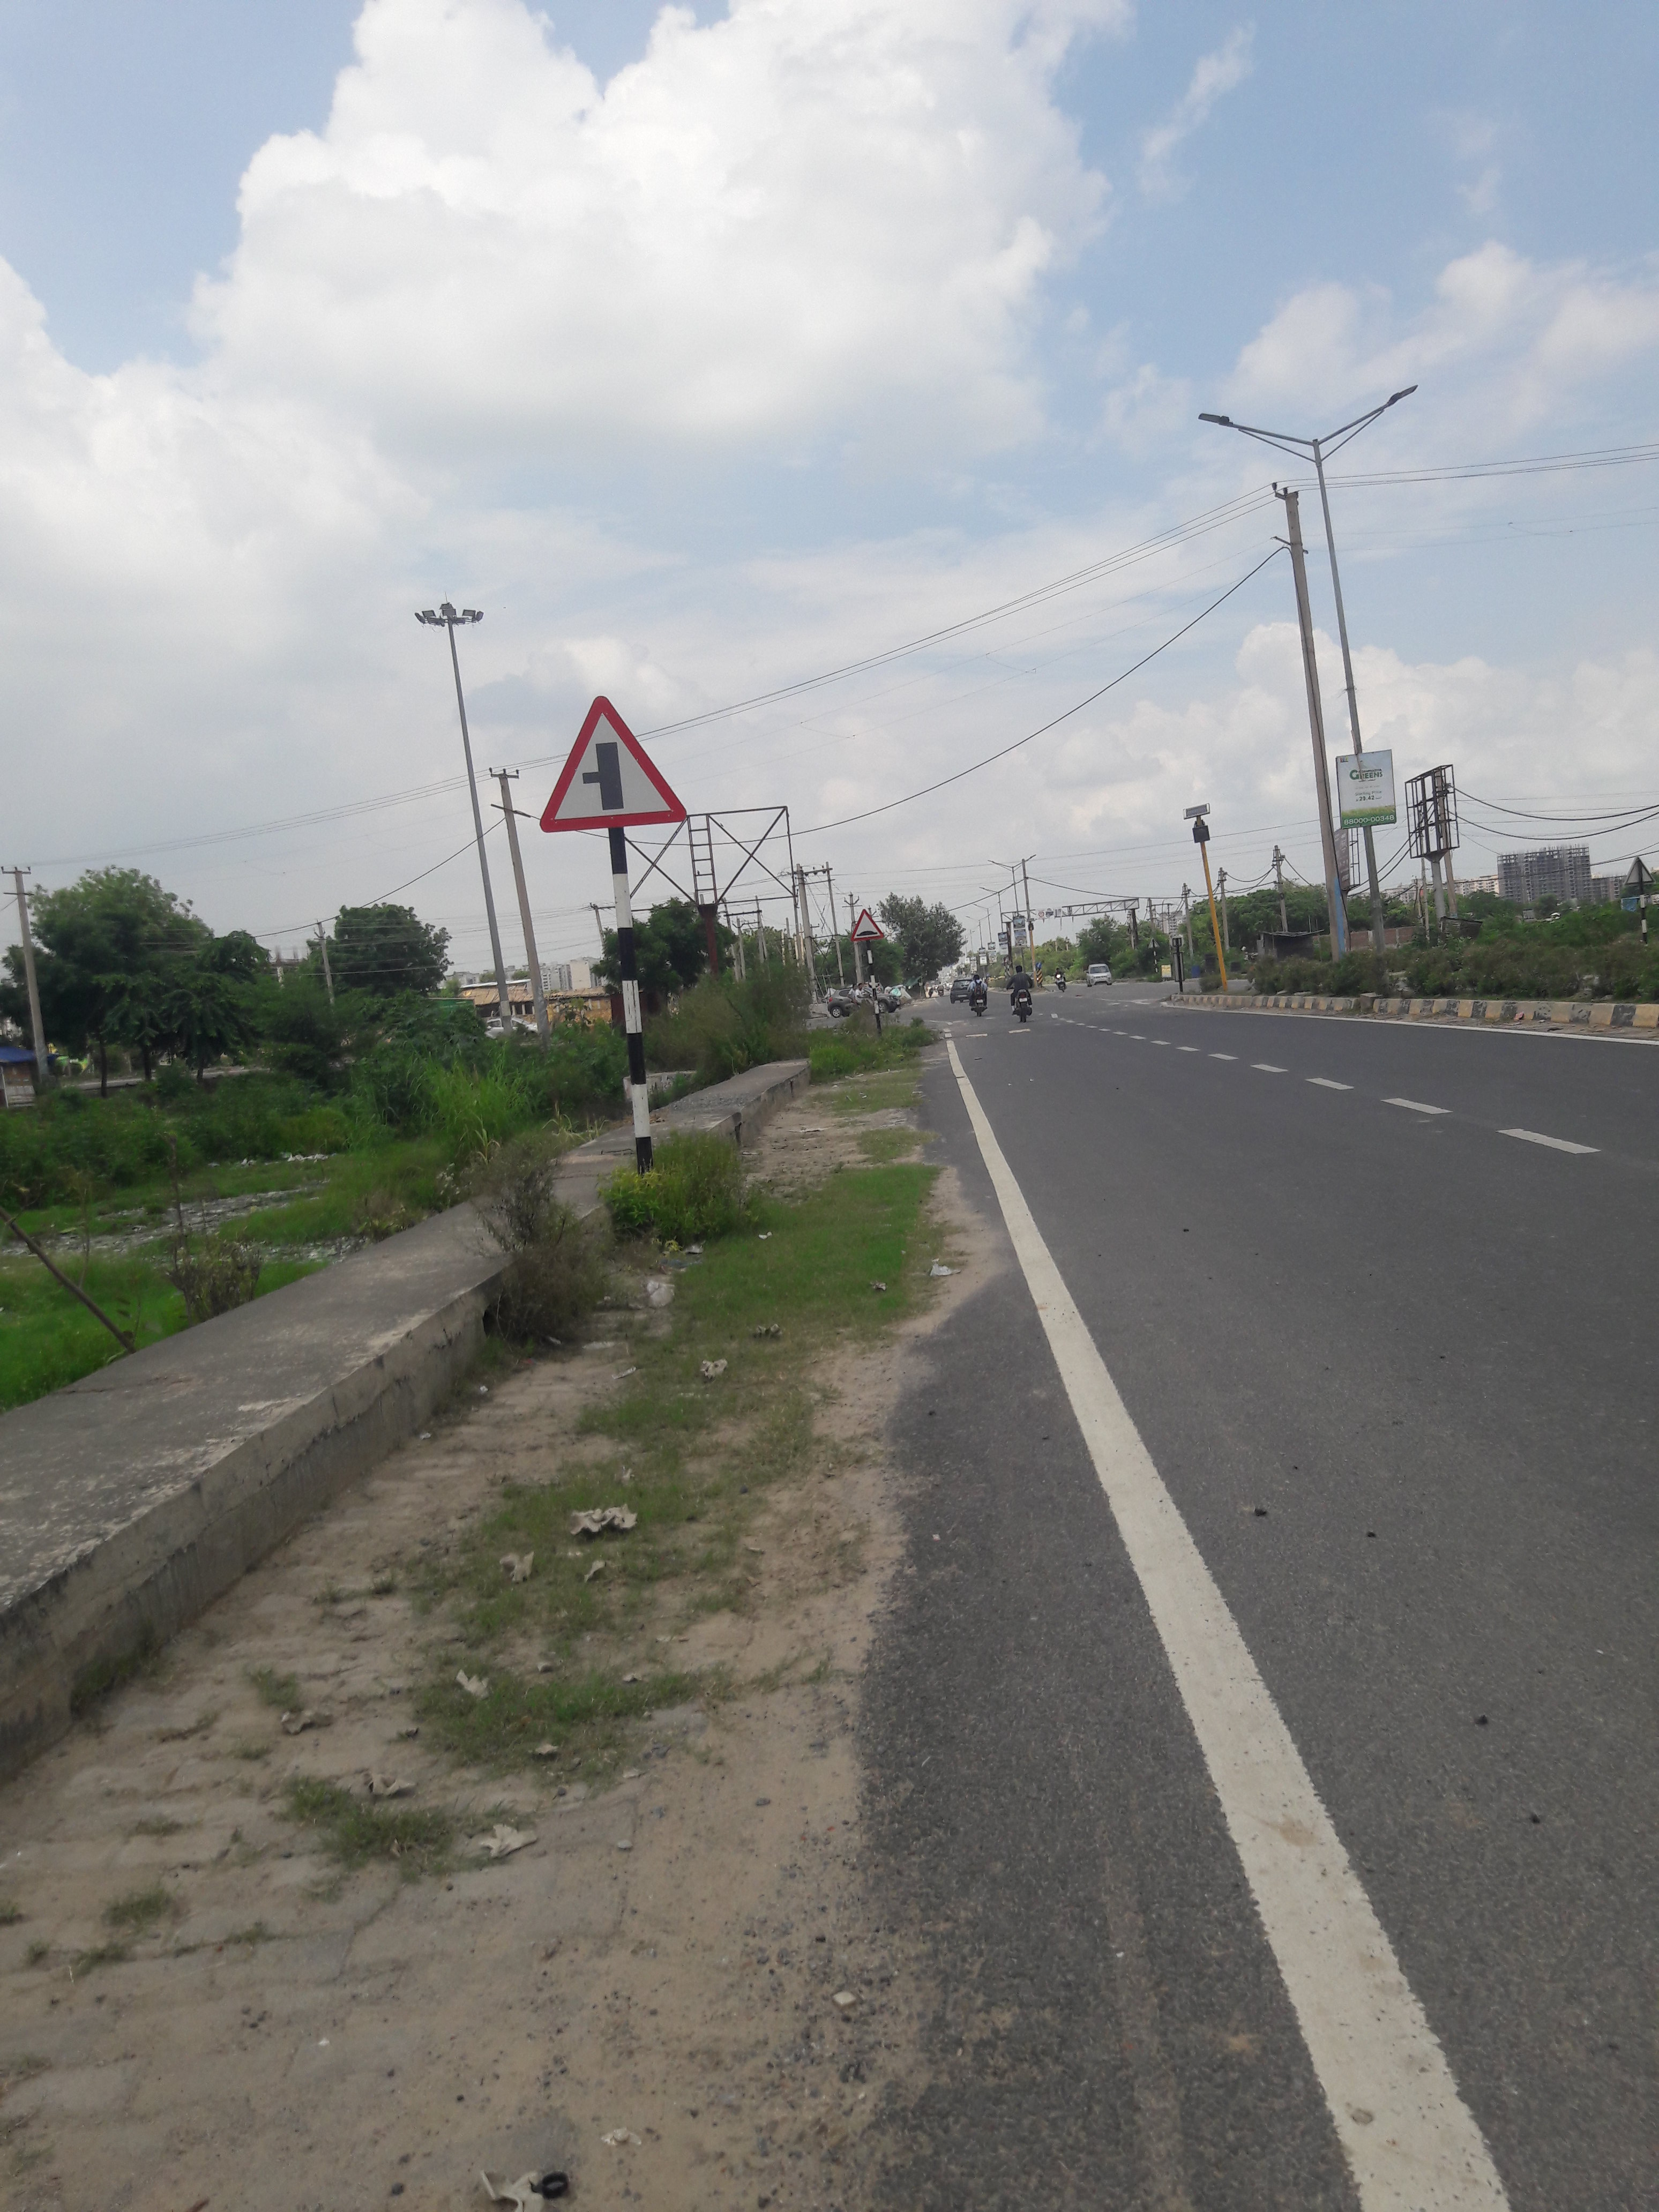traffic_sign: (538, 697, 687, 834), (852, 909, 882, 942), (1192, 826, 1211, 843), (1147, 937, 1161, 949), (1028, 923, 1033, 930)
